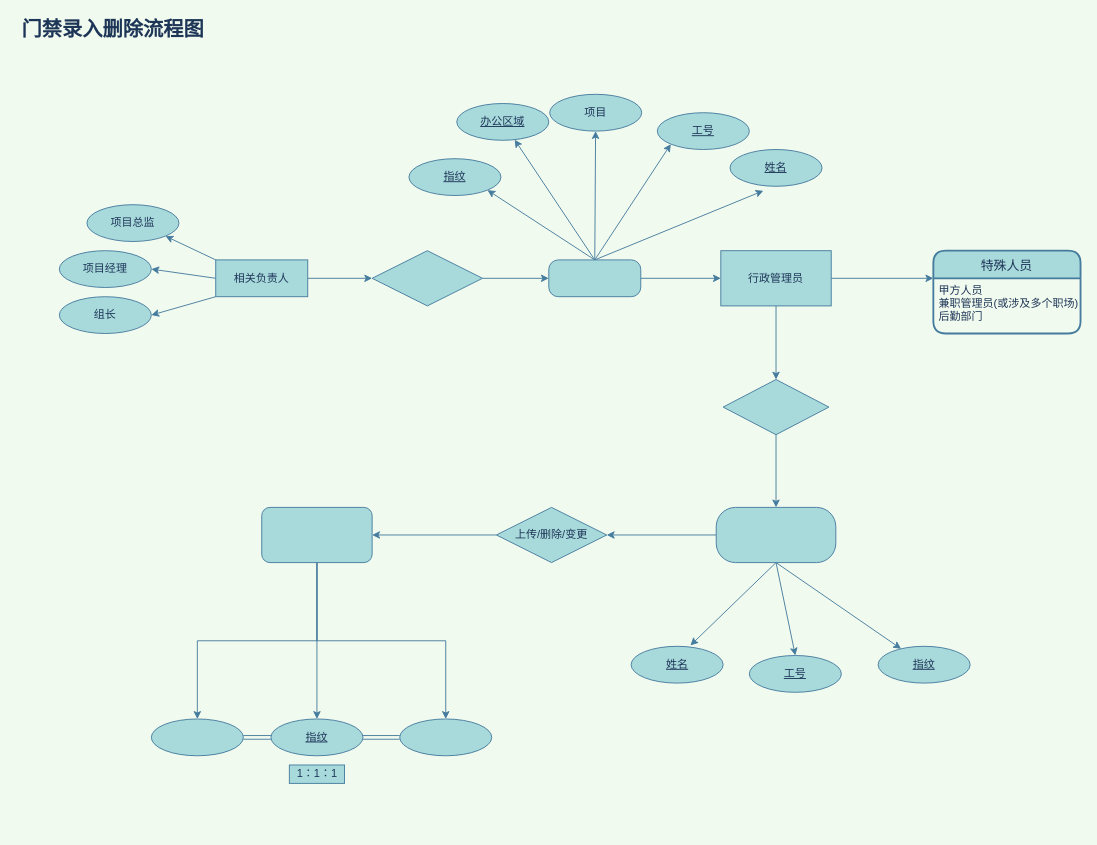
This 1097x845 diagram has some shape labels left out. Here are the shapes that lost their labels. From the top down, the centre of each, then its label:
At (427,278): "提供".
At (594,278): "人员信息".
At (775,407): "录入".
At (316,534): "门禁机".
At (775,534): "门禁考勤系统".
At (196,737): "用户".
At (445,737): "职场人数".
